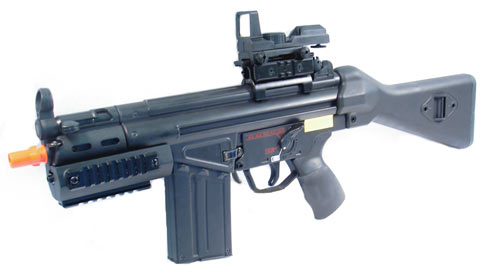rifle: (7, 10, 471, 271)
